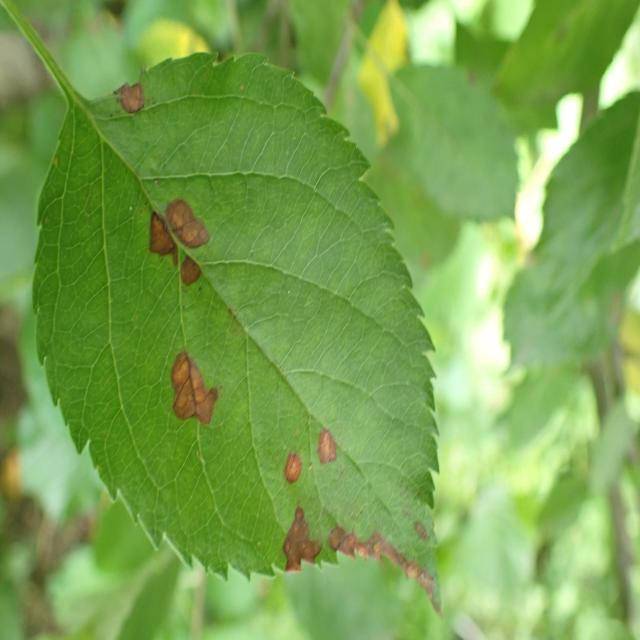Black Rot: (330, 497, 450, 630), (140, 196, 218, 300), (161, 338, 224, 438), (265, 501, 326, 579), (310, 412, 346, 478), (111, 79, 155, 132), (274, 433, 308, 498)
